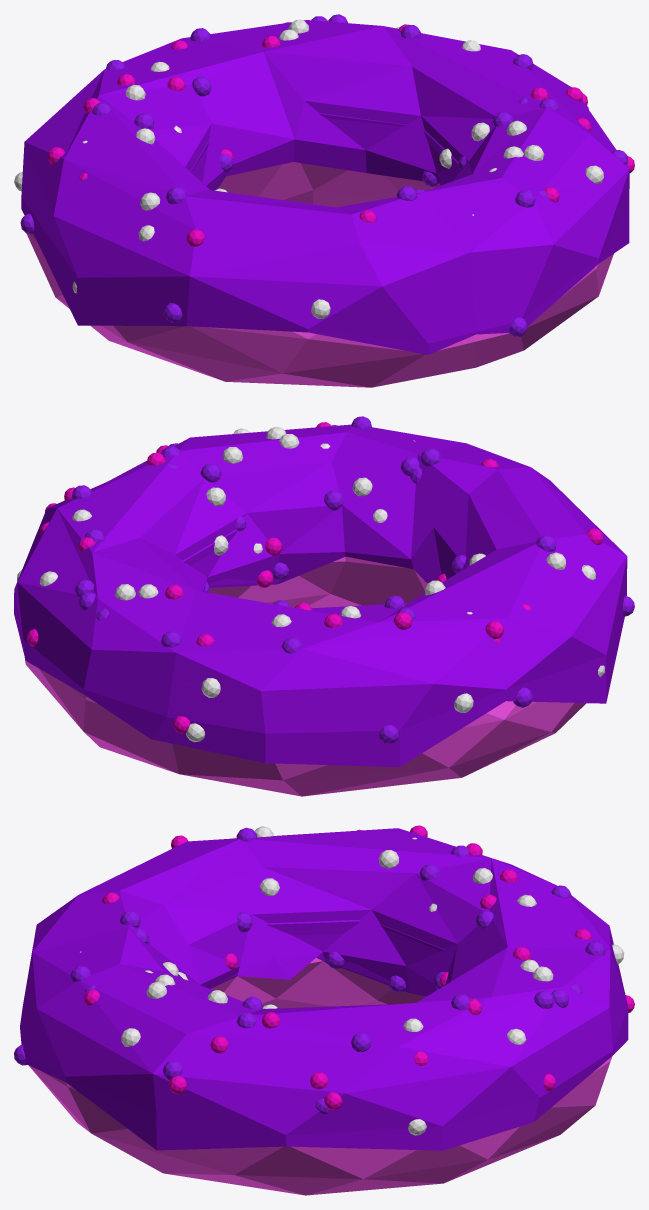
The picture shows the model from 3 angles, top to bottom: view 1: azimuth 30°, elevation 25°; view 2: azimuth 150°, elevation 25°; view 3: azimuth 270°, elevation 25°; orthographic projection.
Visible parts, largest first — view 1: Icing, Donut; view 2: Icing, Donut; view 3: Icing, Donut.
Part boxes in pixels (box(x1,y1,x2,y2)): Icing: box(21, 20, 629, 354); Donut: box(26, 162, 613, 387); Icing: box(14, 424, 627, 767); Donut: box(24, 556, 586, 796); Icing: box(20, 828, 628, 1150); Donut: box(29, 958, 612, 1195).
Size of the model in its own units: 214 by 67.99 by 216.
